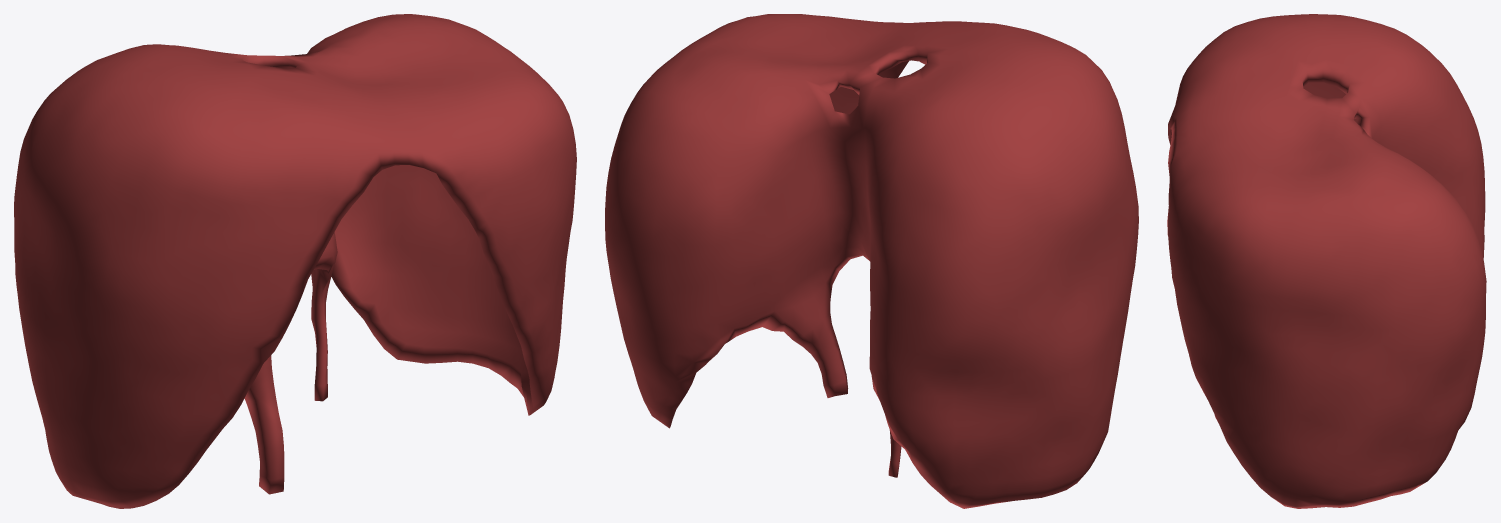
The model's file is diaphragm.glb.
3 views of the same model, side by side, from view 1: azimuth 30°, elevation 25°; view 2: azimuth 150°, elevation 25°; view 3: azimuth 270°, elevation 25° (orthographic). The views are drawn at different scales.
Parts seen in each view (by area): view 1: Diaphragm; view 2: Diaphragm; view 3: Diaphragm.
Boxes of the visible parts, <box> form: Diaphragm: <box>14,14,576,508</box>; Diaphragm: <box>605,14,1138,508</box>; Diaphragm: <box>1167,14,1486,508</box>.
Size of the model in its own units: 0.2511 by 0.222 by 0.1687.
